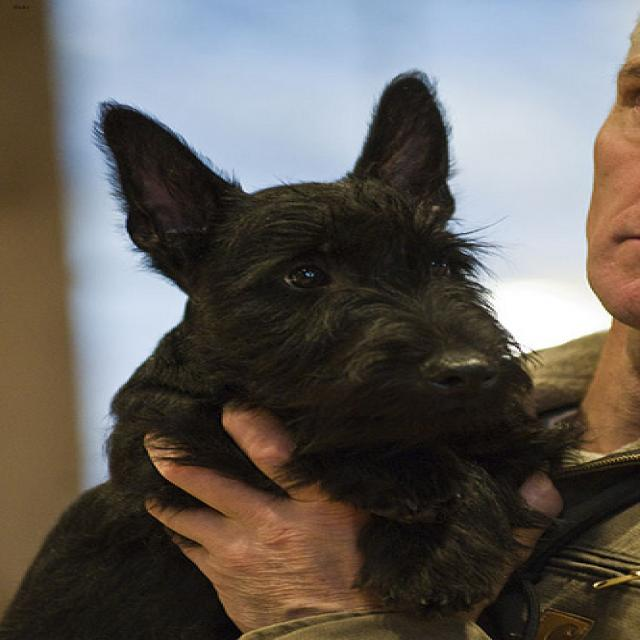dog-scottish_terrier: (2, 56, 563, 637)
